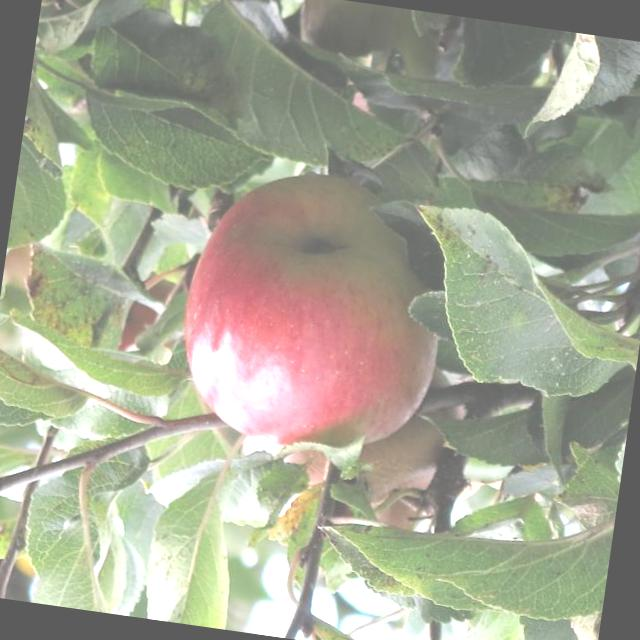Apple: (168, 158, 460, 468), (232, 397, 462, 552)
